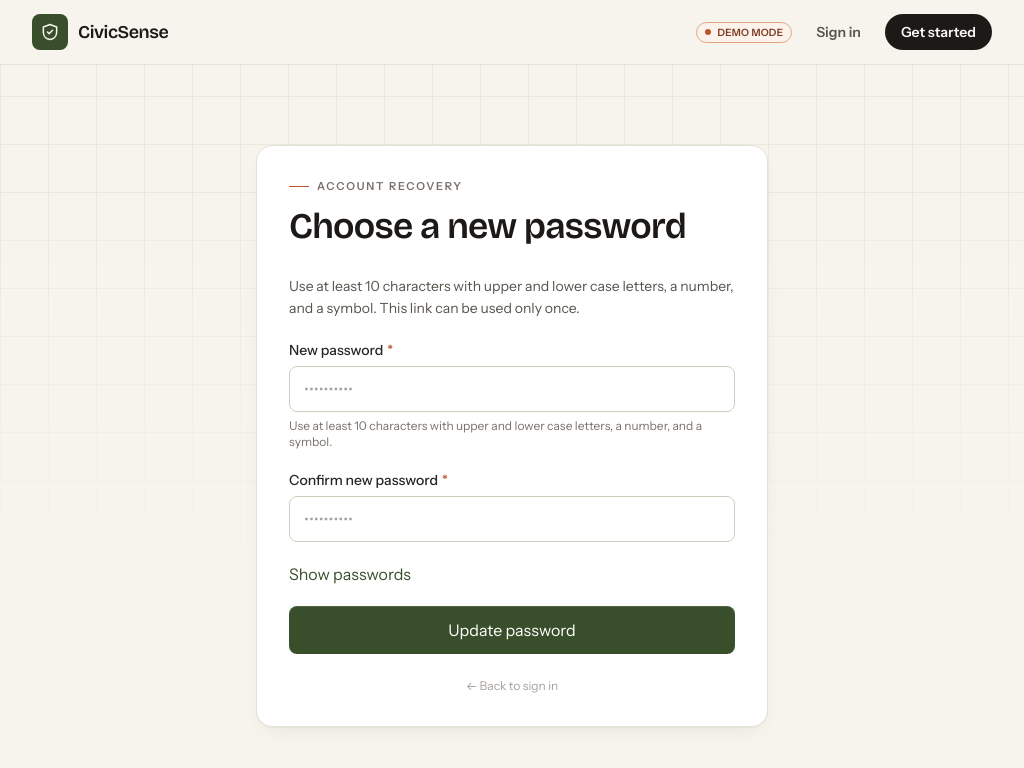
Test case: Phase 10 password recovery › shows the backend error when reset fails
Step 1. Type "Str0ng!Pass1" into the password field labelled "New password" → coordinates (512, 389), box [289,366,735,412]
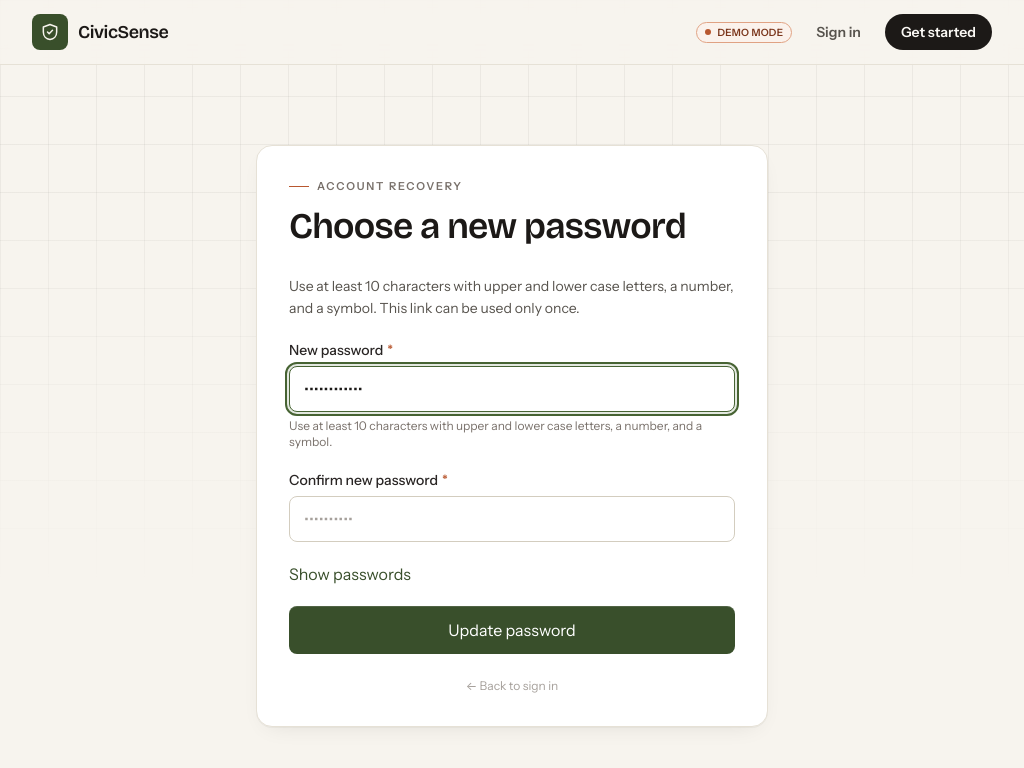
Step 2. Type "Str0ng!Pass1" into the password field labelled "Confirm new password *" → coordinates (512, 519), box [289,496,735,542]
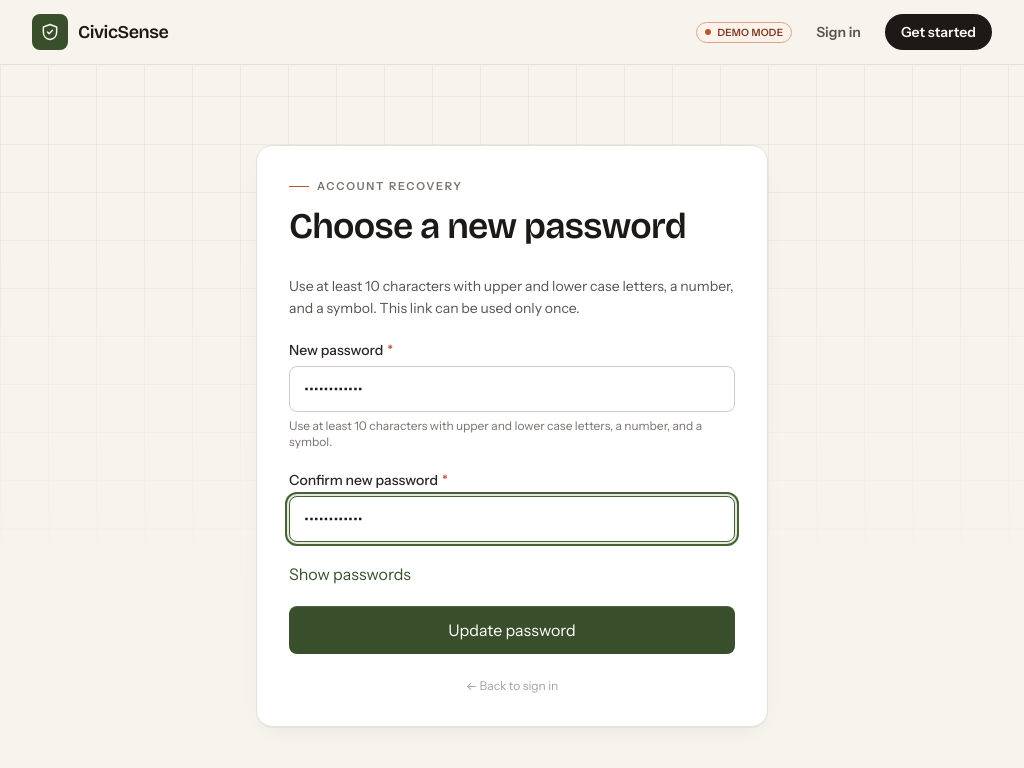
Step 3. Click the button "Update password" → coordinates (512, 630), box [289,606,735,654]
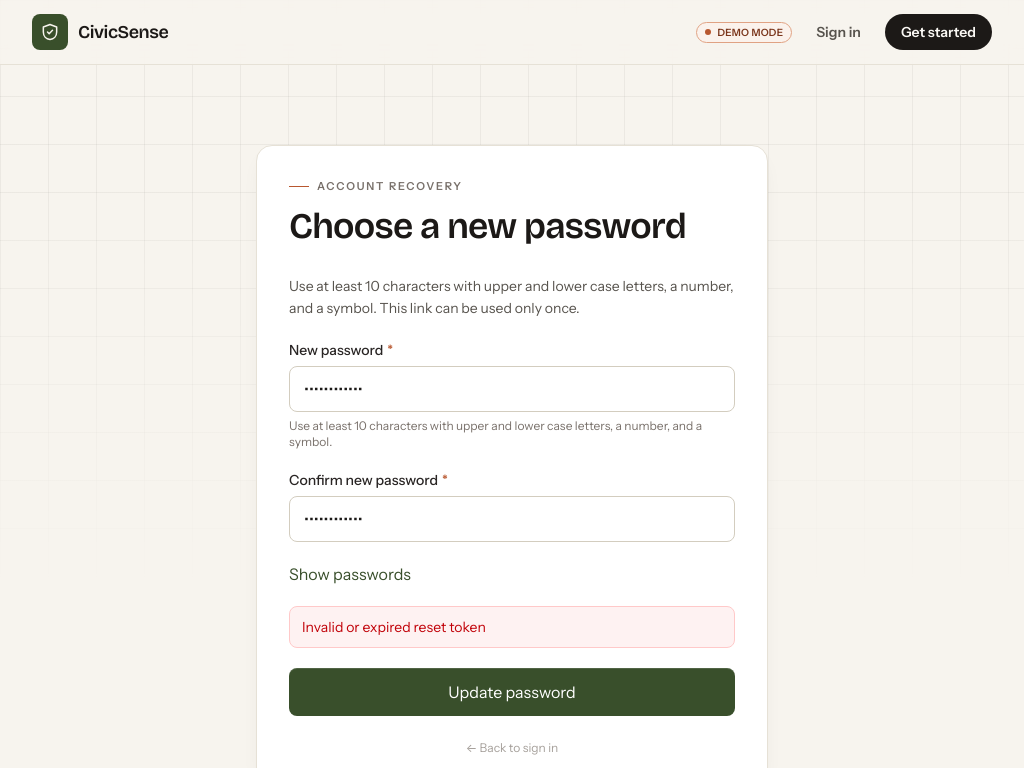
Expected: the message reads "Invalid or expired reset token", [302,618,486,636]
